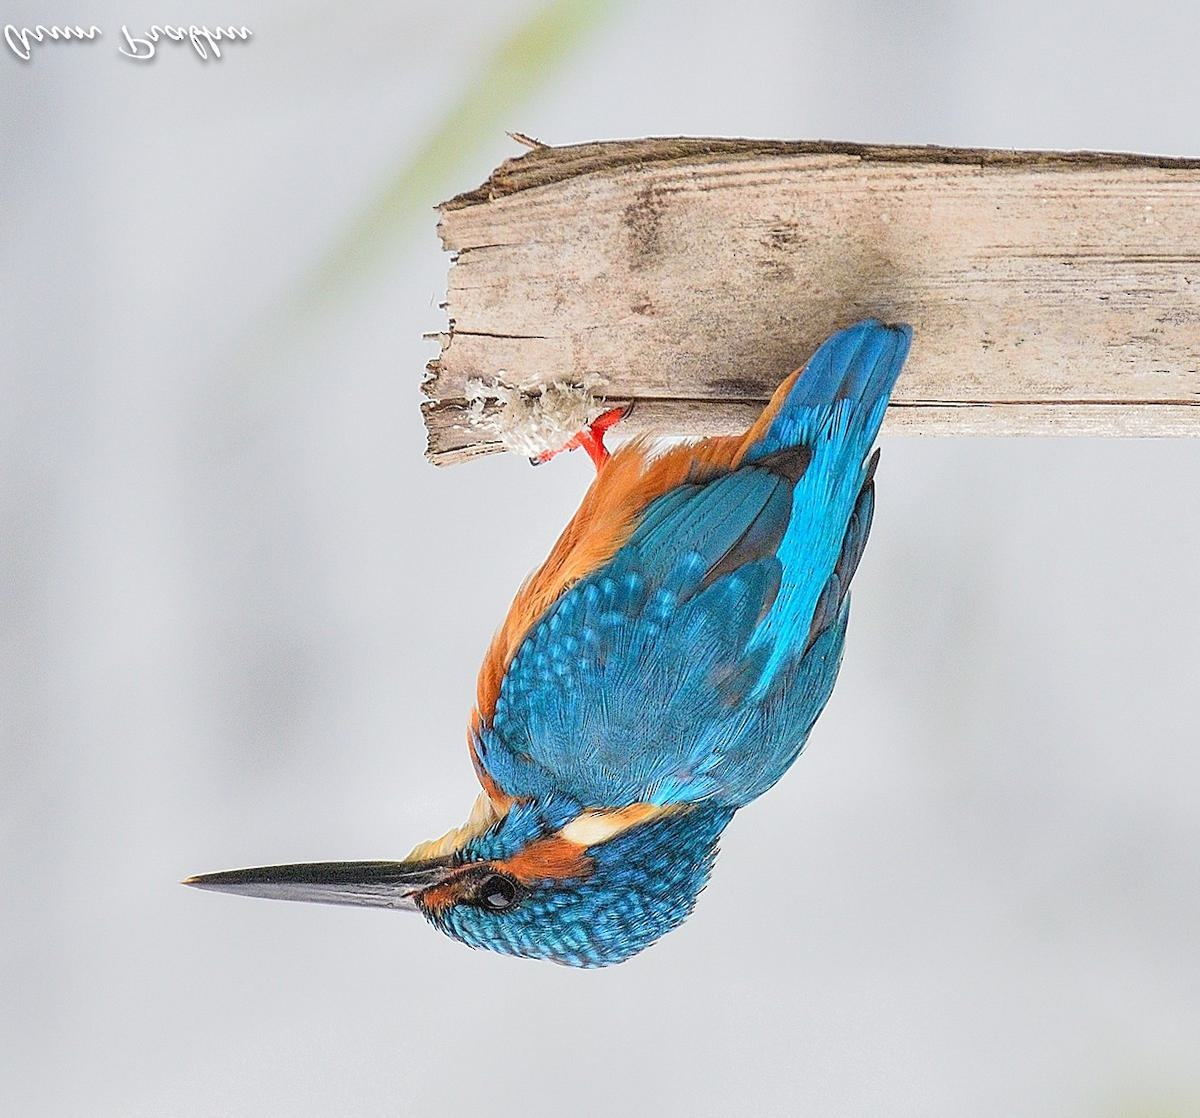kingfisher: (186, 279, 966, 968)
